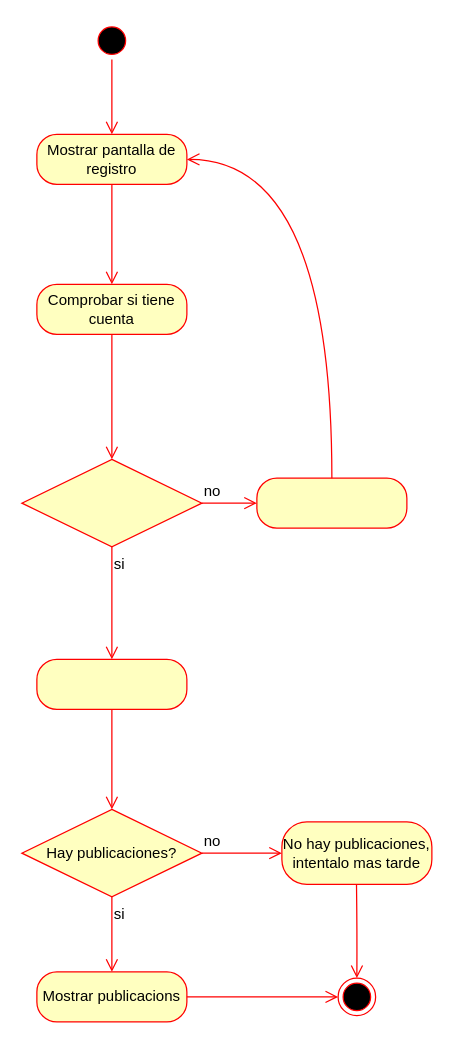
Some shapes in this 454 by 1044 pixel diagram are drawn without their labels. Here are the shapes that lost their labels. From the top down, the centre of each, then its label:
the point at 111,502: Tiene cuenta?
the point at 331,502: Crear cuenta
the point at 111,683: Pantalla de inicio
